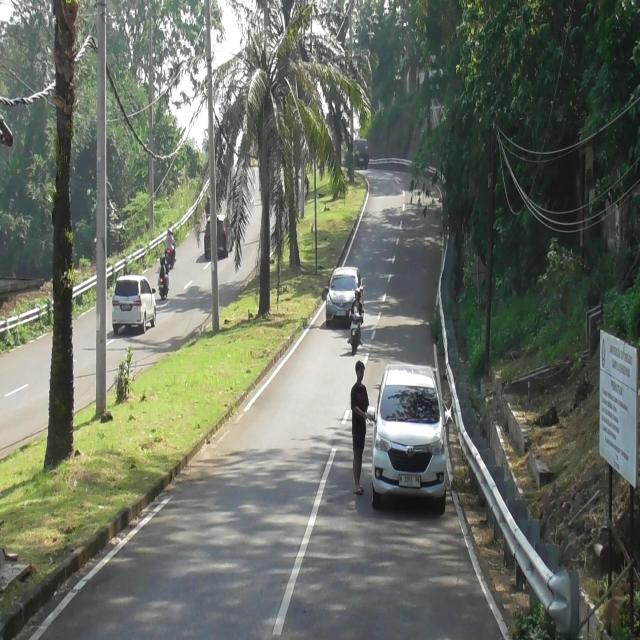motorcycle: (350, 312, 360, 357), (159, 278, 168, 299), (167, 250, 176, 268)
person: (352, 290, 363, 316), (158, 258, 166, 279), (166, 230, 174, 250), (163, 256, 169, 275), (171, 232, 175, 249)
rider_region: (349, 288, 364, 354), (157, 256, 169, 299), (167, 227, 176, 268)
